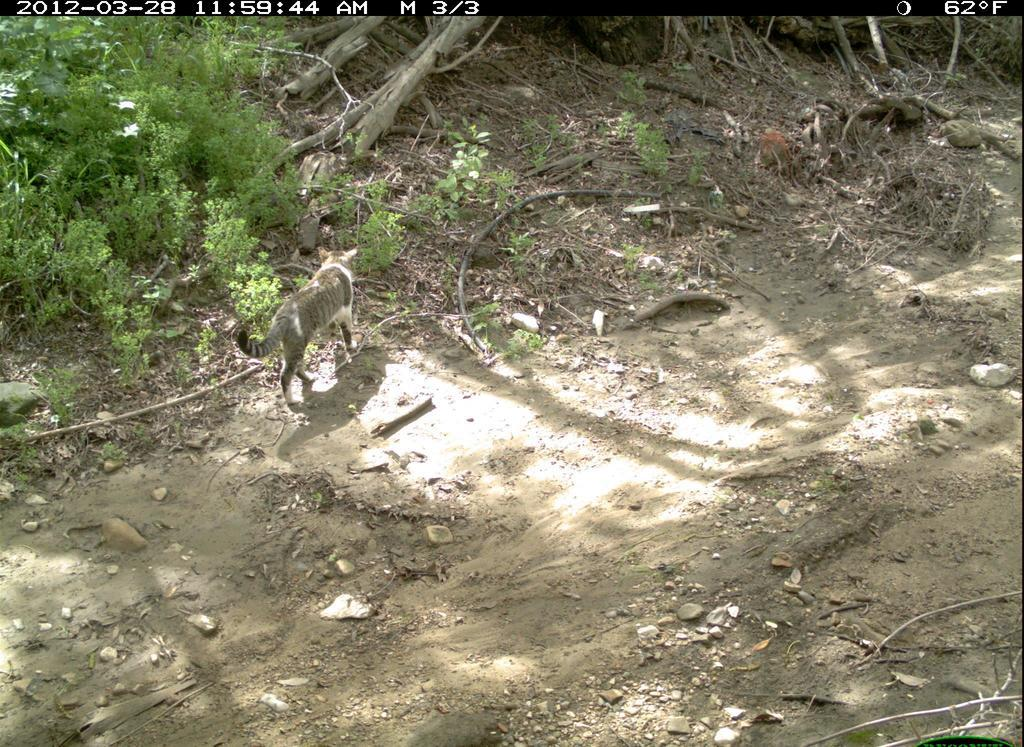cat: (209, 242, 378, 418)
